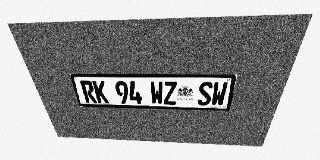4: (127, 81, 142, 104)
9: (114, 81, 130, 104)
K: (92, 81, 109, 103)
R: (80, 81, 97, 103)
S: (197, 82, 213, 106)
W: (210, 82, 228, 106), (150, 81, 163, 105)
Z: (163, 81, 177, 105)
